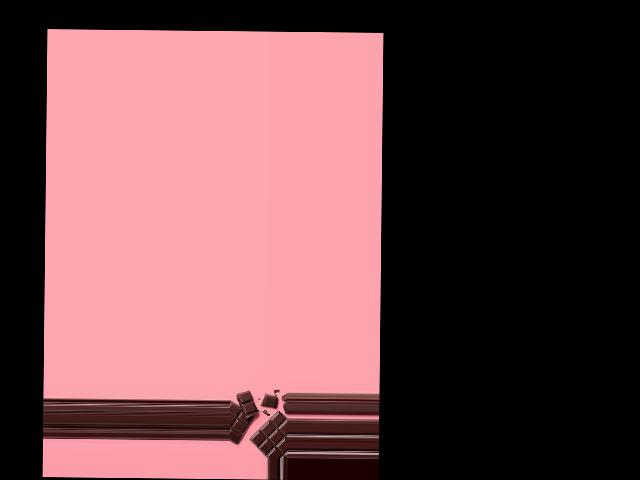chocolate: (233, 394, 287, 458)
